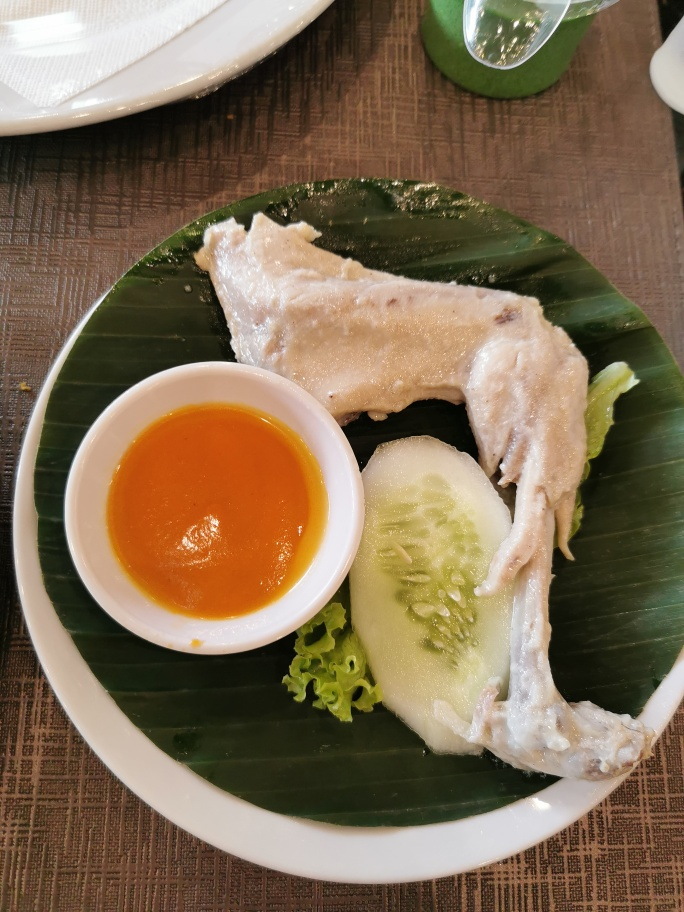ayam pop: (201, 223, 651, 779)
extra: (69, 360, 510, 759)
